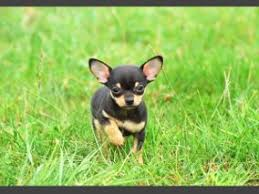chihuahua: (75, 50, 168, 161)
